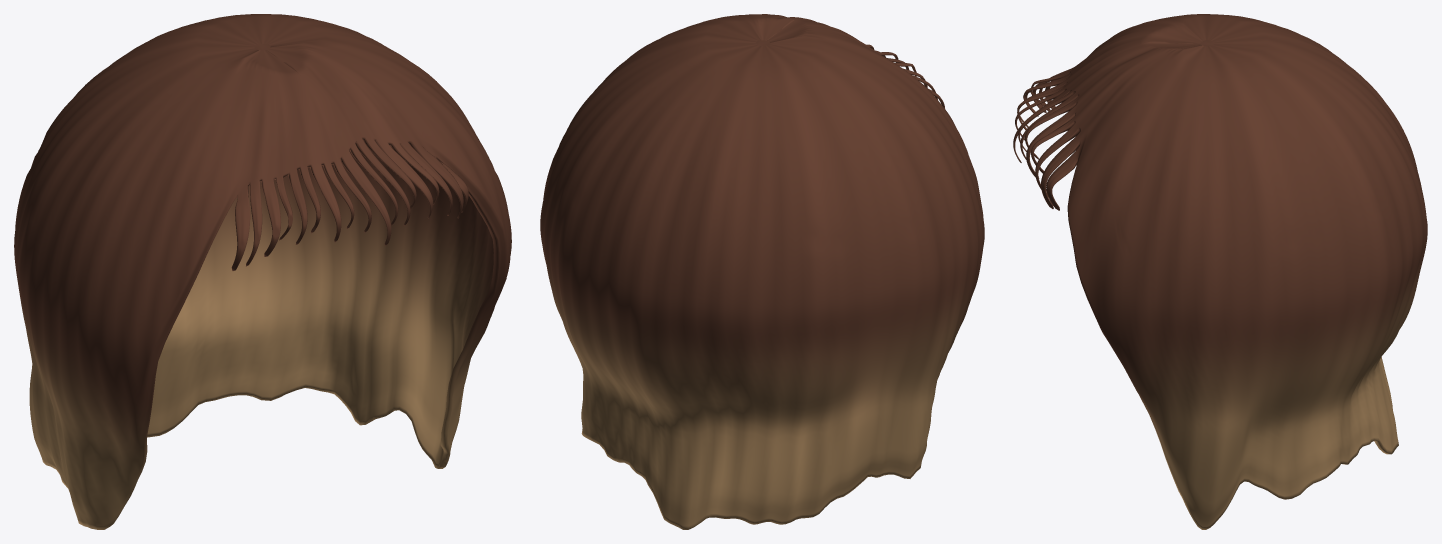
File: side-sweep-cowboy-ombre.glb
3 renders of one model, left to right at view 1: azimuth 30°, elevation 25°; view 2: azimuth 150°, elevation 25°; view 3: azimuth 270°, elevation 25°, orthographic. The views are drawn at different scales.
Parts seen in each view (by area): view 1: Wispy bangs / continuous crown; view 2: Wispy bangs / continuous crown; view 3: Wispy bangs / continuous crown.
Boxes of the visible parts, box(x1,y1,x2,y2) form: Wispy bangs / continuous crown: box(14, 14, 511, 529); Wispy bangs / continuous crown: box(540, 14, 984, 529); Wispy bangs / continuous crown: box(1013, 14, 1427, 529).
Size of the model in its own units: 0.8388 by 0.8726 by 0.7867.
